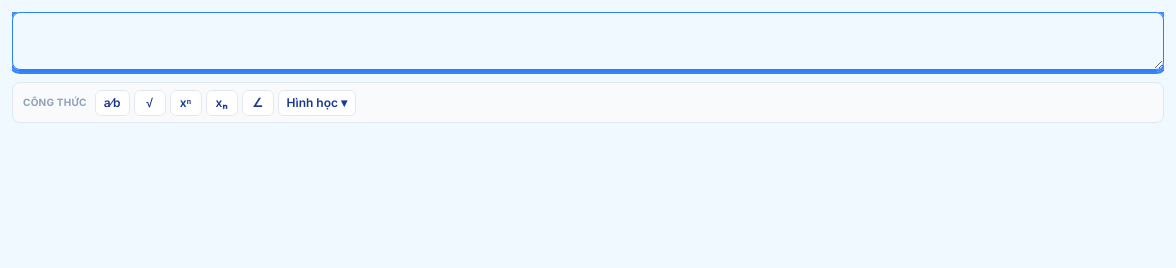
teacher math formula toolbar › offers all requested shortcuts and geometry choices
The width and height of the screenshot is (1176, 268).
Expected: the button named "Phân số" is shown, [95, 90, 130, 116]
Expected: the button named "Căn bậc hai" is shown, [134, 90, 166, 116]
Click the button "Hình học ▾". click: (317, 103)
box: [278, 90, 356, 116]
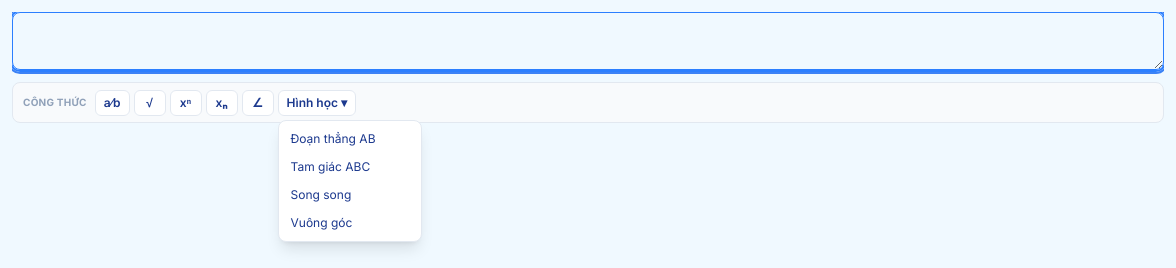
Now the button "Đoạn thẳng AB" is shown, box [282, 125, 416, 153]
Now the button "Tam giác ABC" is shown, box [282, 153, 416, 181]
Now the button "Song song" is shown, box [282, 181, 416, 209]
